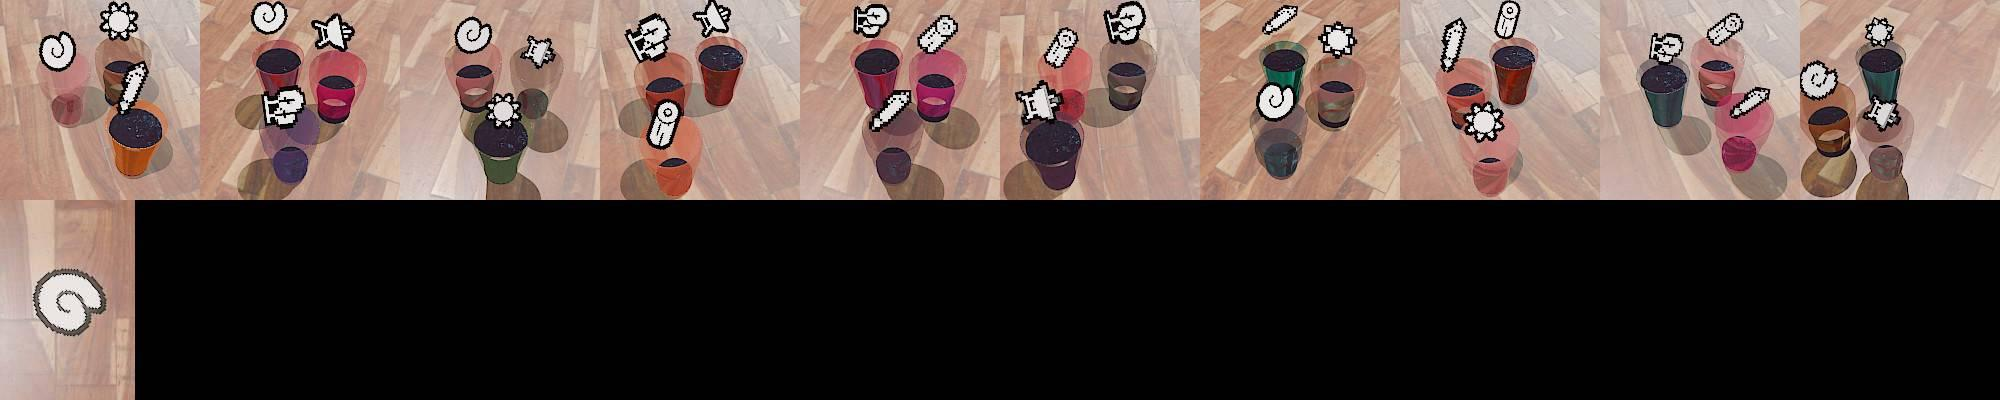icon: (31, 266, 108, 336), (624, 11, 672, 62), (1017, 79, 1064, 125), (867, 88, 913, 131), (1460, 99, 1506, 143), (916, 11, 959, 56), (1102, 1, 1145, 45), (647, 98, 682, 150), (261, 87, 306, 127), (117, 61, 151, 113), (98, 1, 140, 42), (311, 13, 353, 52), (1256, 82, 1297, 121), (1440, 15, 1468, 73), (1042, 25, 1079, 69), (1800, 60, 1839, 99), (693, 0, 732, 38), (1318, 20, 1357, 59), (38, 32, 75, 73), (454, 15, 492, 54), (485, 90, 523, 127), (1730, 85, 1770, 120), (250, 1, 290, 36), (853, 3, 890, 38), (1705, 11, 1744, 46), (518, 34, 556, 69), (1862, 98, 1902, 131), (1648, 31, 1684, 64), (1261, 4, 1297, 36), (1494, 0, 1522, 39), (1865, 18, 1897, 48)
